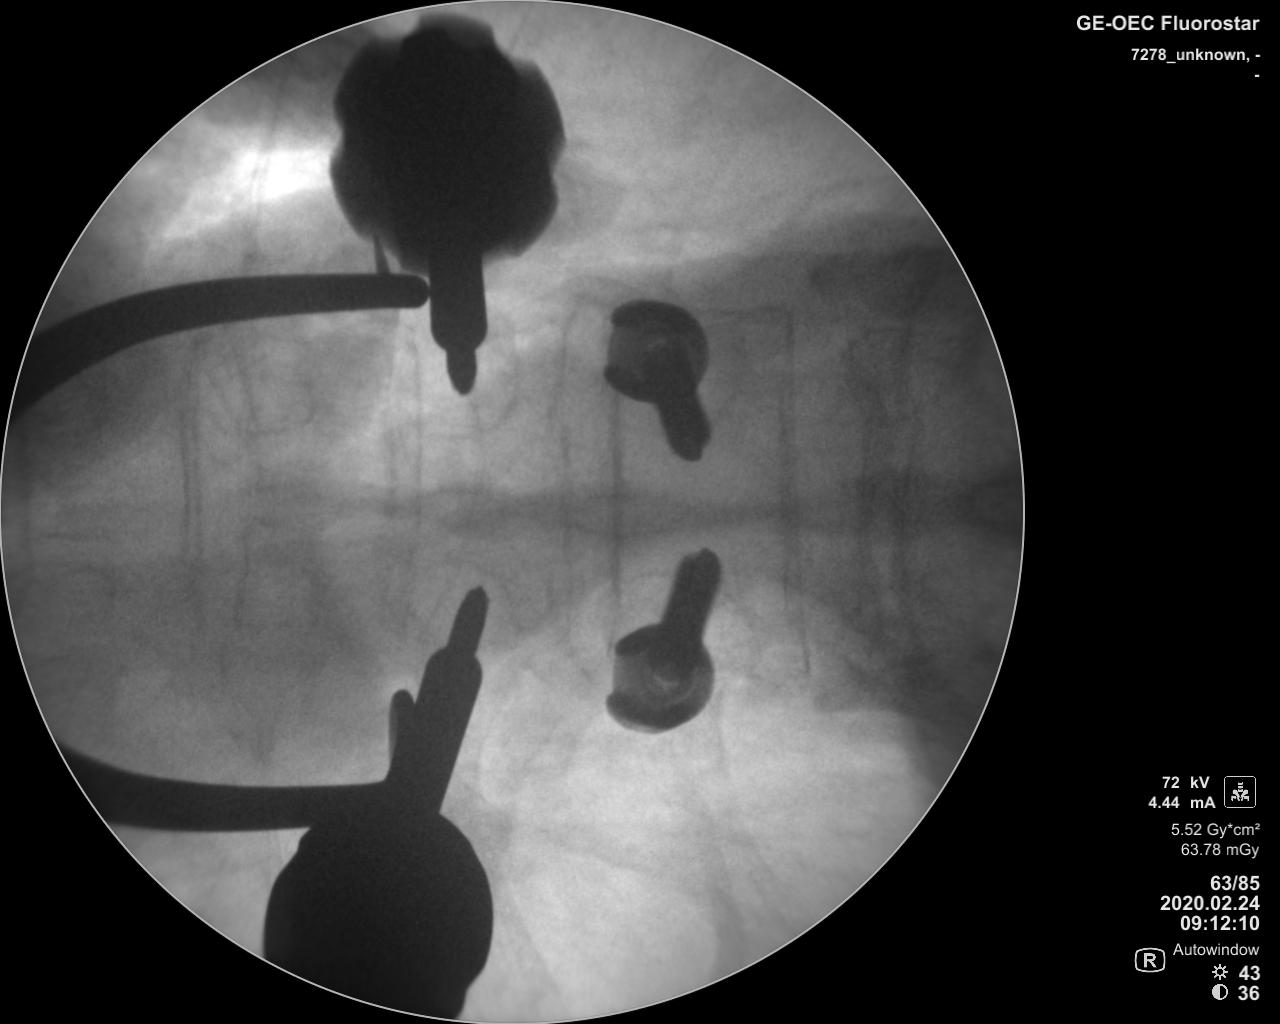eyes: (605, 571, 757, 672), (383, 333, 523, 438), (192, 352, 321, 442), (403, 562, 530, 653), (196, 554, 324, 626)
line: (771, 326, 812, 641), (173, 382, 212, 625), (550, 397, 583, 636), (370, 372, 399, 635), (404, 343, 426, 612), (859, 409, 884, 626), (605, 396, 628, 625)
nose: (740, 475, 970, 538), (545, 479, 725, 541), (214, 466, 363, 532), (389, 478, 531, 539)
